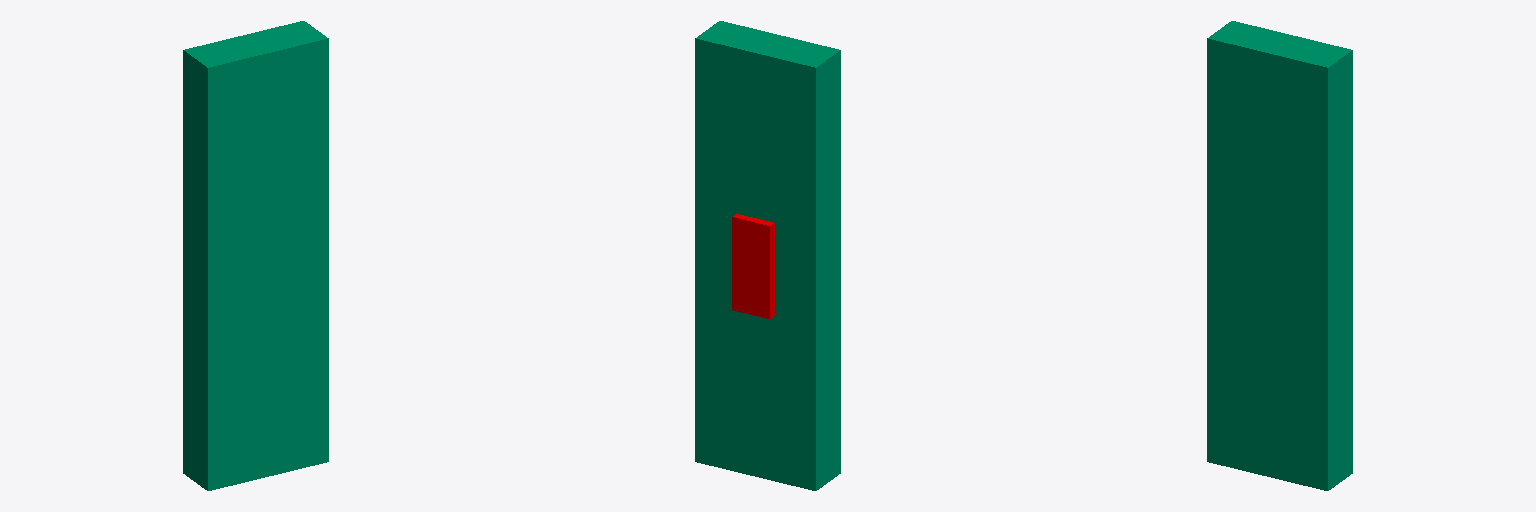
URDF robot description (knife):
<?xml version='1.0' encoding='utf-8'?>
<robot name="knife">
  <link name="base" /><joint name="joint_0" type="fixed"><origin xyz="0 0 0" rpy="0 0 0" /><parent link="base" /><child link="link_0" /></joint><link name="link_1">
    <visual name="link_1">
      <origin xyz="0 0.007508 0" rpy="0 0 0" />
      <geometry>
        <box size="0.011253085920978826 0.002331109755456558 0.02670285791465753" /></geometry>
    <material name="red"><color rgba="1 0 0 1" /></material></visual>
    <collision>
      <origin xyz="0 0.007508 0" rpy="0 0 0" />
      <geometry>
        <box size="0.011253085920978826 0.002331109755456558 0.02670285791465753" /></geometry>
    </collision>
    </link>
  <joint name="joint_1" type="prismatic">
    <origin xyz="0 0 0" />
    <axis xyz="0 0 1" />
    <child link="link_1" />
    <parent link="link_0" />
    <limit lower="-0.024768" upper="0.025232" effort="100.0" velocity="1.0" />
  </joint>
  <link name="link_0">
    <visual name="link_0">
      <origin xyz="0 0 0" />
      <geometry>
        <box size="0.03613108043385509 0.012683941392169235 0.12122950034603787" /></geometry>
    </visual>
    <collision>
      <origin xyz="0 0 0" />
      <geometry>
        <box size="0.03613108043385509 0.012683941392169235 0.12122950034603787" /></geometry>
    </collision>
    </link>
</robot>

--- Facts derived from the render (not from the file) ---
Views: 3 orthographic renders of the robot side by side, from view 1: azimuth 30°, elevation 25°; view 2: azimuth 150°, elevation 25°; view 3: azimuth 330°, elevation 25°.
Model knife with 3 links and 2 joints (1 prismatic, 1 fixed), rooted at base, posed every joint at zero.
Links seen in each view (by area): view 1: link_0; view 2: link_0, link_1; view 3: link_0.
Boxes of the visible links, x1,y1,x2,y2 form: link_0: (183,21,328,490); link_0: (695,21,840,490); link_1: (732,214,774,318); link_0: (1207,21,1352,490).
Size in the robot's own frame: 0.0361 by 0.015 by 0.1212 metres.
Geometry: primitives only (box / cylinder / sphere), no mesh files.
